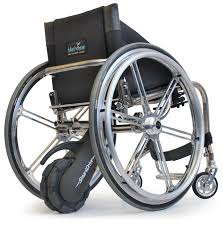wheelchair: (7, 5, 218, 214)
